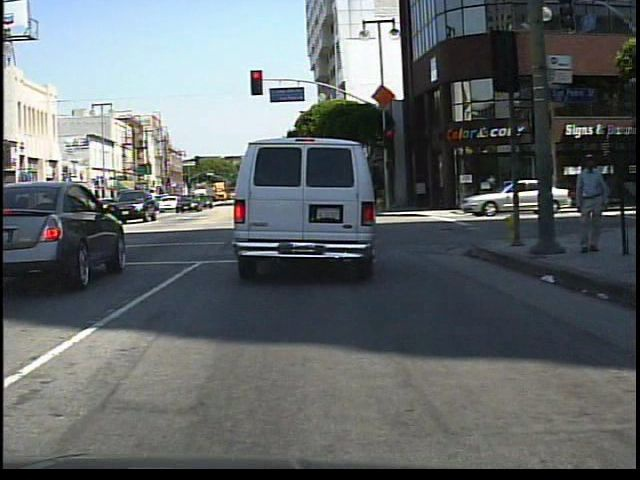person: (572, 150, 616, 258)
